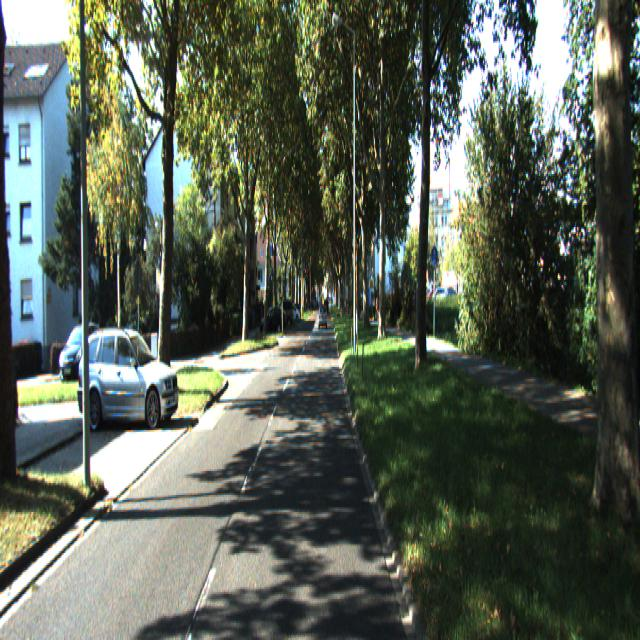Car: (73, 329, 183, 432)
